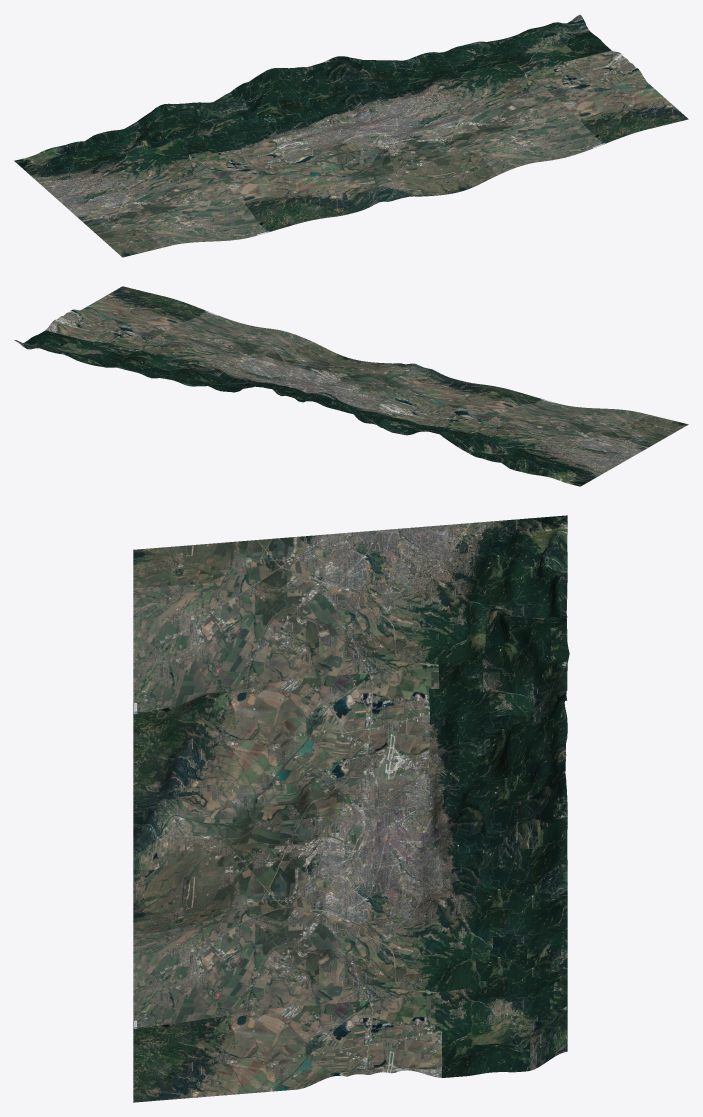
The model's file is sofia.gltf.
3 renders of one model, top to bottom at view 1: azimuth 30°, elevation 25°; view 2: azimuth 150°, elevation 25°; view 3: azimuth 270°, elevation 25°, orthographic. The views are drawn at different scales.
Parts seen in each view (by area): view 1: sofia; view 2: sofia; view 3: sofia.
Part boxes in pixels (x1,y1,x2,y2): sofia: (14, 14, 688, 257); sofia: (14, 286, 688, 486); sofia: (133, 515, 569, 1102).
Size of the model in its own units: 30 by 3.26 by 10.01.
1 material, 1 textured.
